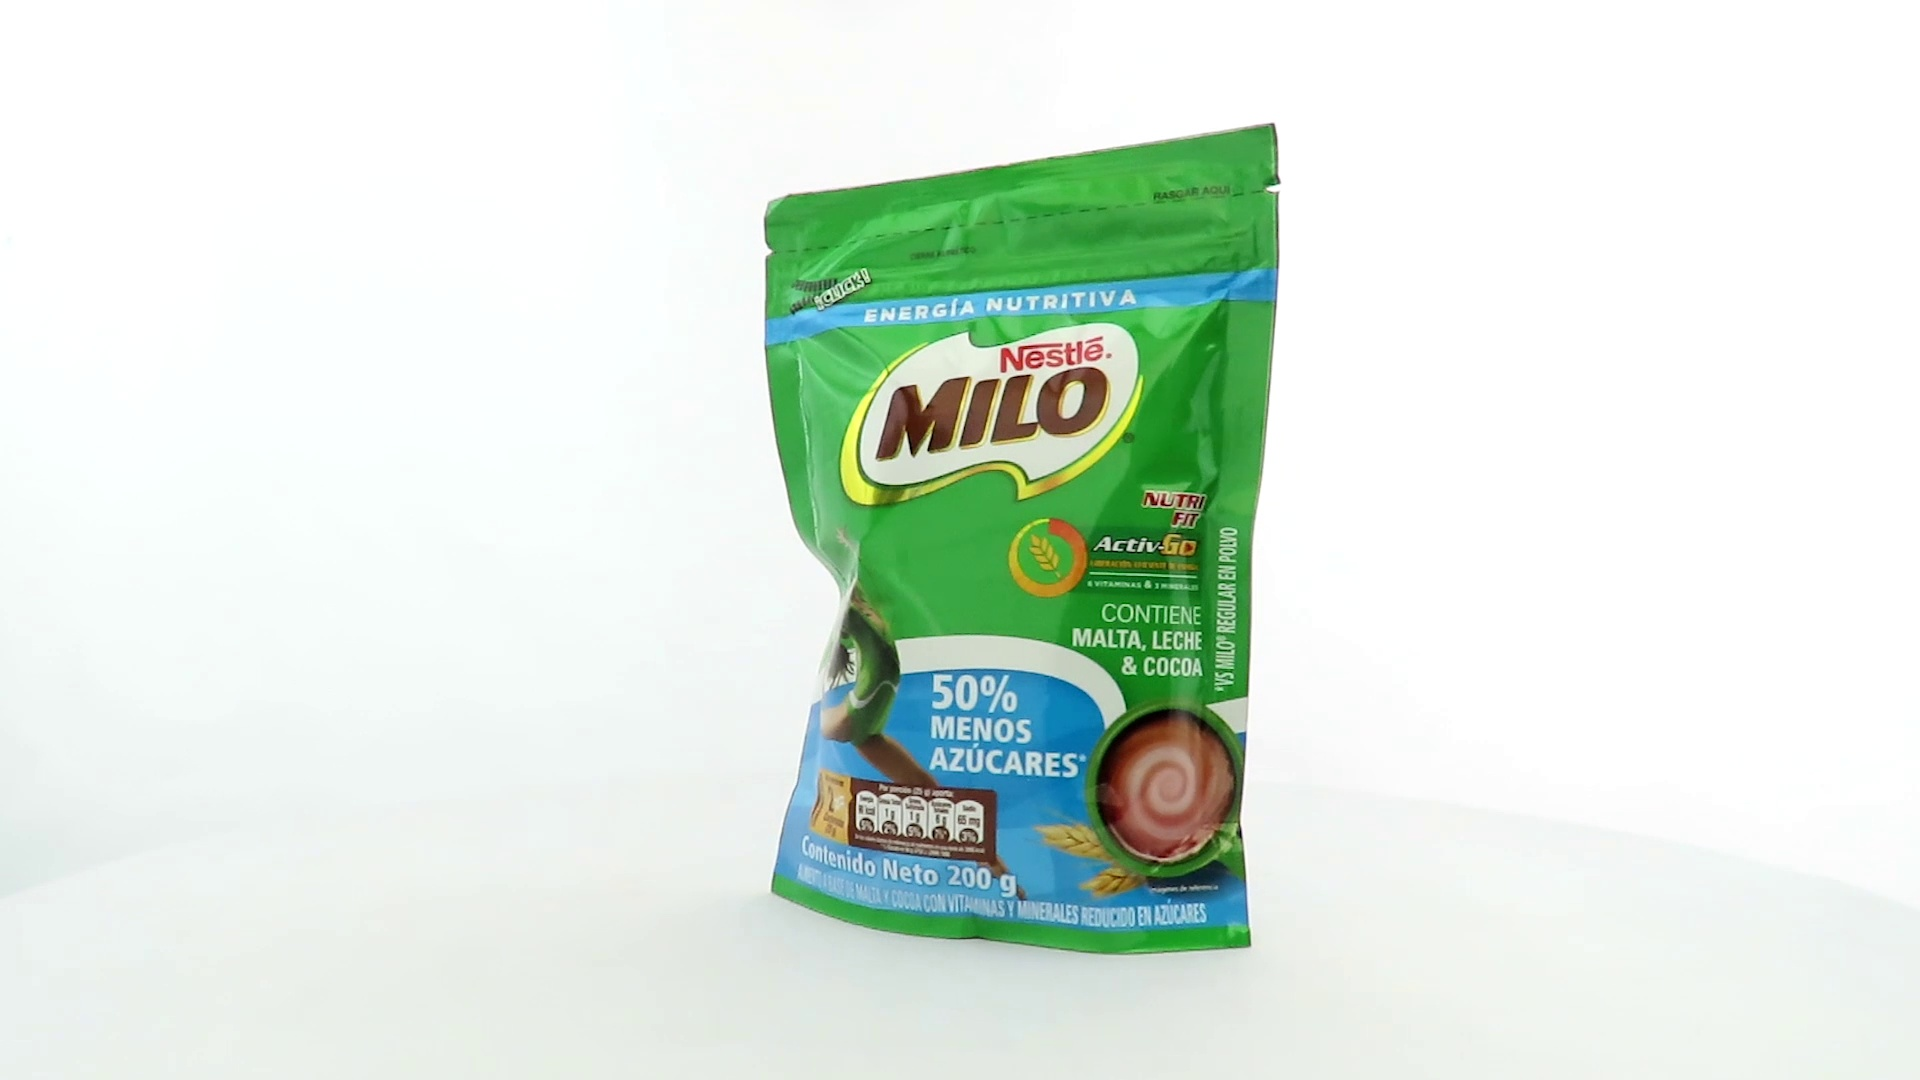COL0170205DYP20000: (760, 117, 1287, 963)
